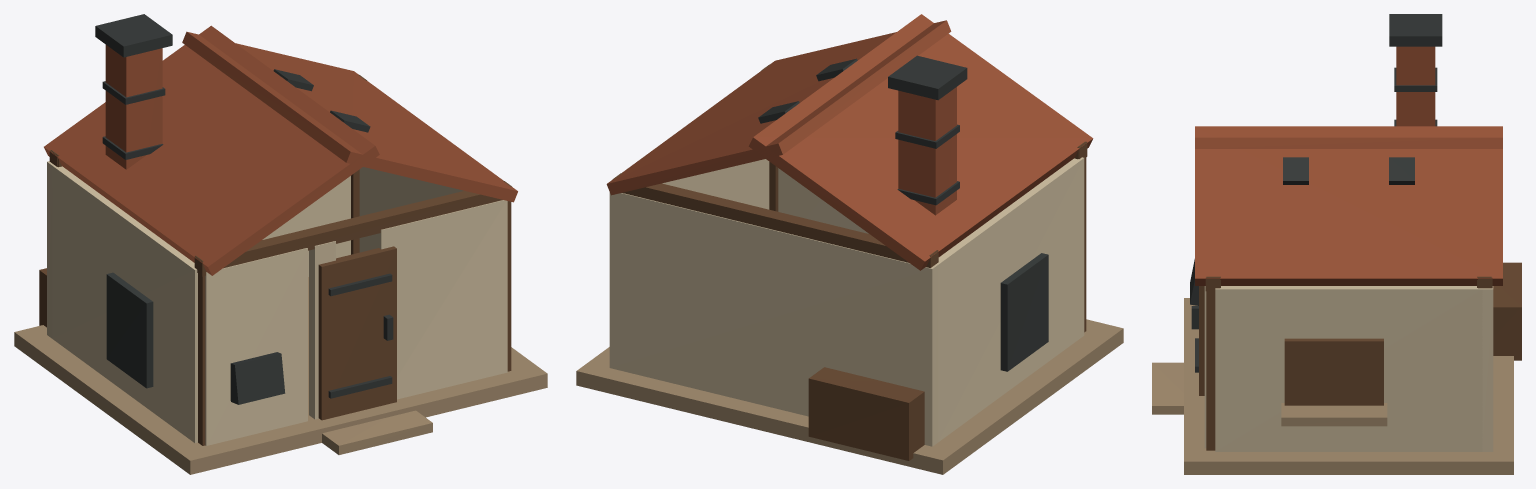
The model's file is bakery.source.glb.
The picture shows the model from 3 angles, left to right: view 1: azimuth 30°, elevation 25°; view 2: azimuth 150°, elevation 25°; view 3: azimuth 270°, elevation 25°; orthographic projection. The views are drawn at different scales.
Parts seen in each view (by area): view 1: bakery-left-terracotta-roof-mesh, bakery-left-plaster-wall-mesh, bakery-front-right-plaster-wall-mesh, bakery-front-left-plaster-wall-mesh, bakery-right-terracotta-roof-mesh, bakery-thin-stone-curb-mesh, bakery-timber-service-door-mesh, bakery-slim-brick-chimney-mesh, bakery-front-top-beam-mesh, bakery-iron-oven-face-mesh, bakery-rear-plaster-wall-mesh, bakery-right-plaster-wall-mesh (+9 smaller); view 2: bakery-rear-plaster-wall-mesh, bakery-left-terracotta-roof-mesh, bakery-left-plaster-wall-mesh, bakery-right-terracotta-roof-mesh, bakery-thin-stone-curb-mesh, bakery-fuel-rack-mesh, bakery-slim-brick-chimney-mesh, bakery-rear-top-beam-mesh, bakery-iron-oven-face-mesh, bakery-right-plaster-wall-mesh, bakery-chimney-cap-mesh, bakery-front-right-plaster-wall-mesh (+1 smaller); view 3: bakery-right-terracotta-roof-mesh, bakery-right-plaster-wall-mesh, bakery-thin-stone-curb-mesh, bakery-product-output-shutter-mesh, bakery-left-terracotta-roof-mesh, bakery-slim-brick-chimney-mesh, bakery-fuel-rack-mesh, bakery-output-counter-mesh, bakery-rear-plaster-wall-mesh, bakery-chimney-cap-mesh, bakery-service-step-mesh, bakery-front-right-timber-post-mesh (+5 smaller).
Boxes of the visible parts, bbox=[...] form: bakery-left-terracotta-roof-mesh: bbox=[44, 25, 379, 275]; bakery-left-plaster-wall-mesh: bbox=[52, 165, 197, 443]; bakery-front-right-plaster-wall-mesh: bbox=[375, 200, 507, 399]; bakery-front-left-plaster-wall-mesh: bbox=[205, 248, 307, 445]; bakery-right-terracotta-roof-mesh: bbox=[182, 31, 517, 202]; bakery-thin-stone-curb-mesh: bbox=[14, 277, 547, 474]; bakery-timber-service-door-mesh: bbox=[318, 246, 396, 420]; bakery-slim-brick-chimney-mesh: bbox=[105, 45, 162, 169]; bakery-front-top-beam-mesh: bbox=[194, 181, 511, 276]; bakery-iron-oven-face-mesh: bbox=[106, 272, 153, 388]; bakery-rear-plaster-wall-mesh: bbox=[47, 161, 350, 338]; bakery-right-plaster-wall-mesh: bbox=[359, 167, 463, 252]; bakery-rear-plaster-wall-mesh: bbox=[609, 192, 938, 446]; bakery-left-terracotta-roof-mesh: bbox=[748, 14, 1093, 270]; bakery-left-plaster-wall-mesh: bbox=[937, 157, 1084, 441]; bakery-right-terracotta-roof-mesh: bbox=[606, 20, 951, 195]; bakery-thin-stone-curb-mesh: bbox=[576, 319, 1123, 474]; bakery-fuel-rack-mesh: bbox=[808, 367, 924, 460]; bakery-slim-brick-chimney-mesh: bbox=[898, 87, 956, 215]; bakery-rear-top-beam-mesh: bbox=[612, 173, 938, 267]; bakery-iron-oven-face-mesh: bbox=[1000, 253, 1048, 371]; bakery-right-plaster-wall-mesh: bbox=[662, 159, 769, 209]; bakery-chimney-cap-mesh: bbox=[888, 55, 967, 100]; bakery-front-right-plaster-wall-mesh: bbox=[778, 168, 868, 233]; bakery-right-terracotta-roof-mesh: bbox=[1195, 126, 1502, 285]; bakery-right-plaster-wall-mesh: bbox=[1215, 286, 1482, 451]; bakery-thin-stone-curb-mesh: bbox=[1184, 298, 1513, 474]; bakery-product-output-shutter-mesh: bbox=[1284, 338, 1383, 405]; bakery-left-terracotta-roof-mesh: bbox=[1195, 137, 1502, 148]; bakery-slim-brick-chimney-mesh: bbox=[1396, 46, 1435, 126]; bakery-fuel-rack-mesh: bbox=[1493, 262, 1521, 360]; bakery-output-counter-mesh: bbox=[1281, 403, 1387, 426]; bakery-rear-plaster-wall-mesh: bbox=[1482, 286, 1493, 451]; bakery-chimney-cap-mesh: bbox=[1389, 14, 1442, 46]; bakery-service-step-mesh: bbox=[1152, 362, 1183, 414]; bakery-front-right-timber-post-mesh: bbox=[1206, 276, 1220, 450].
Bounding box in the file's own units: 4.88 × 4.29 × 4.54.
